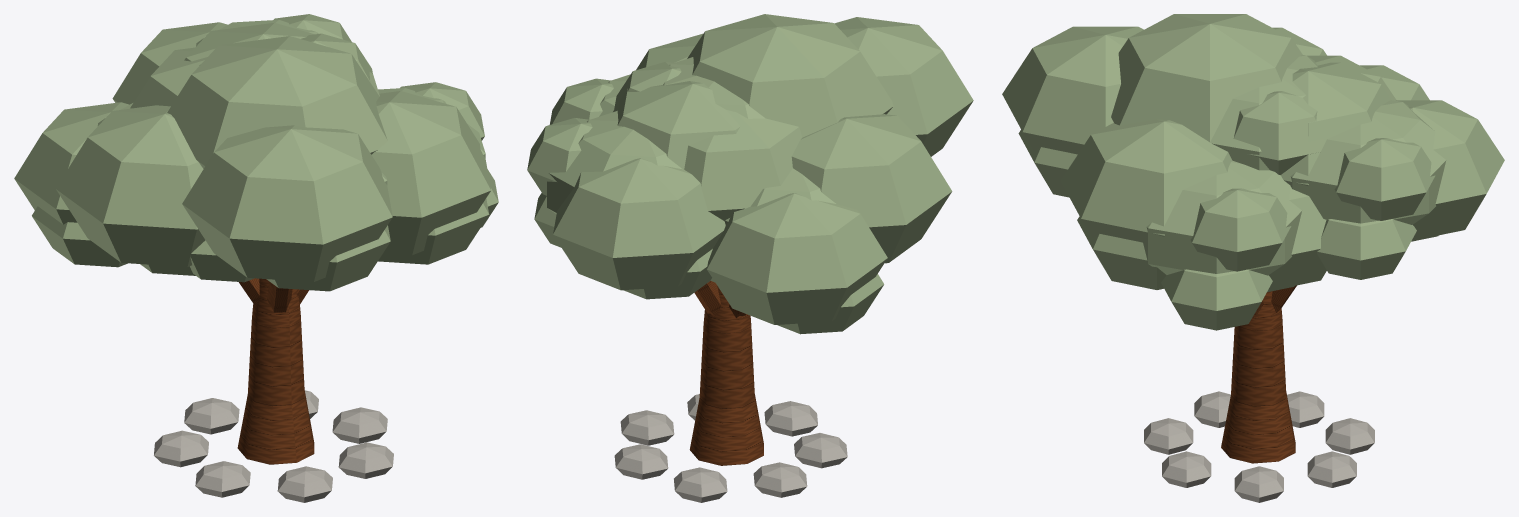
The model's file is greek-island-village-and-harbour-olive-tree-b7baf3c7.glb.
3 views of the same model, side by side, from view 1: azimuth 30°, elevation 25°; view 2: azimuth 150°, elevation 25°; view 3: azimuth 270°, elevation 25° (orthographic). The views are drawn at different scales.
Parts seen in each view (by area): view 1: olive-tree; view 2: olive-tree; view 3: olive-tree.
Part boxes in pixels (bbox=[...]): olive-tree: bbox=[14, 14, 498, 502]; olive-tree: bbox=[527, 14, 973, 502]; olive-tree: bbox=[1002, 14, 1504, 502].
Size of the model in its own units: 3.45 by 3.6 by 3.89.
Materials: 3 (2 with a texture image).
